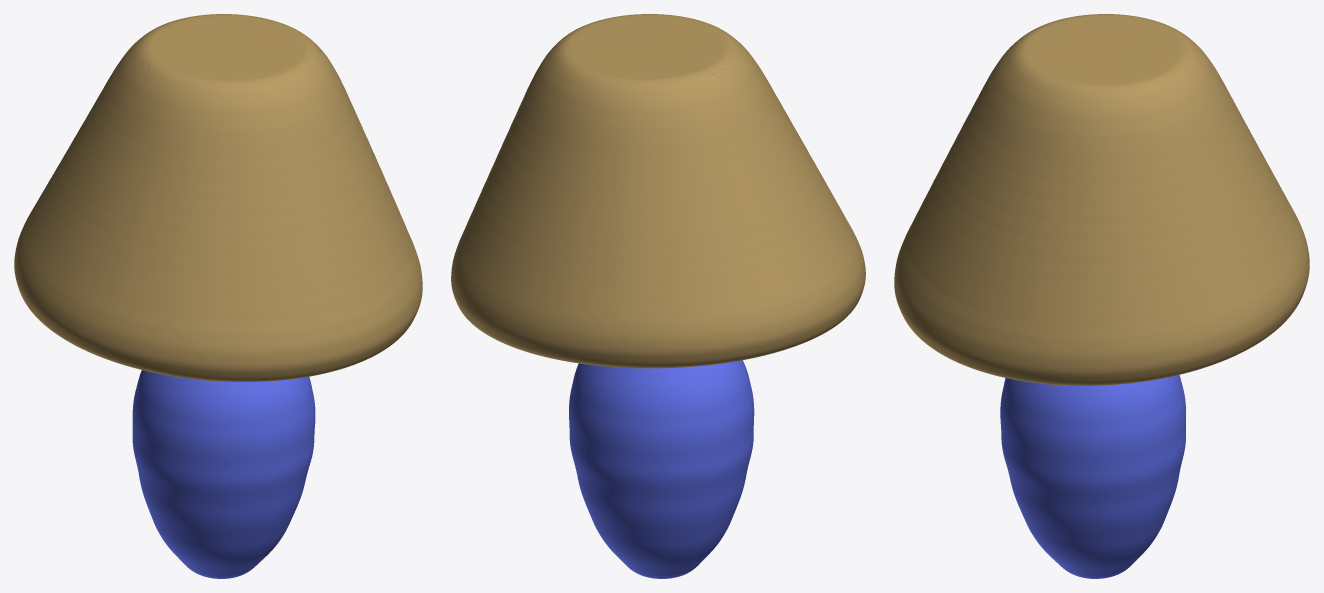
The model's file is lamp.fbx.
3 renders of one model, left to right at view 1: azimuth 30°, elevation 25°; view 2: azimuth 150°, elevation 25°; view 3: azimuth 270°, elevation 25°, orthographic.
Parts seen in each view (by area): view 1: lamp; view 2: lamp; view 3: lamp.
Boxes of the visible parts, <box> form: lamp: <box>14,14,422,578</box>; lamp: <box>451,14,865,578</box>; lamp: <box>894,14,1309,578</box>.
Bounding box in the file's own units: 3.13 × 4.37 × 3.13.
1 material, 1 textured.
